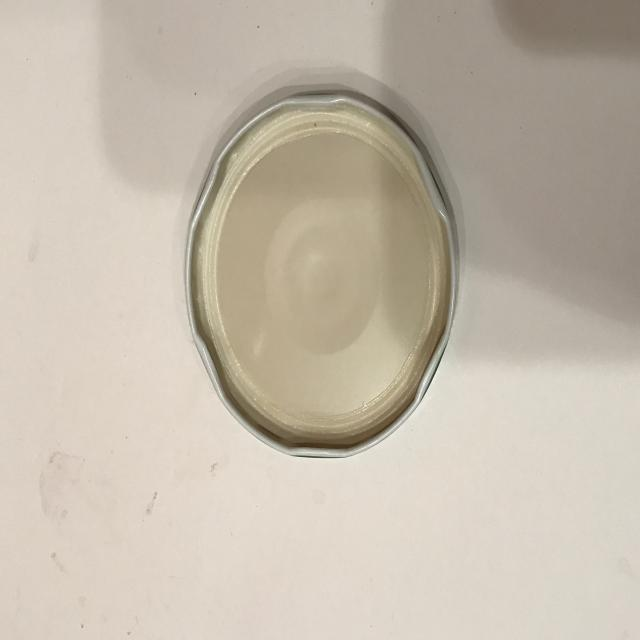metal: (184, 84, 461, 458)
